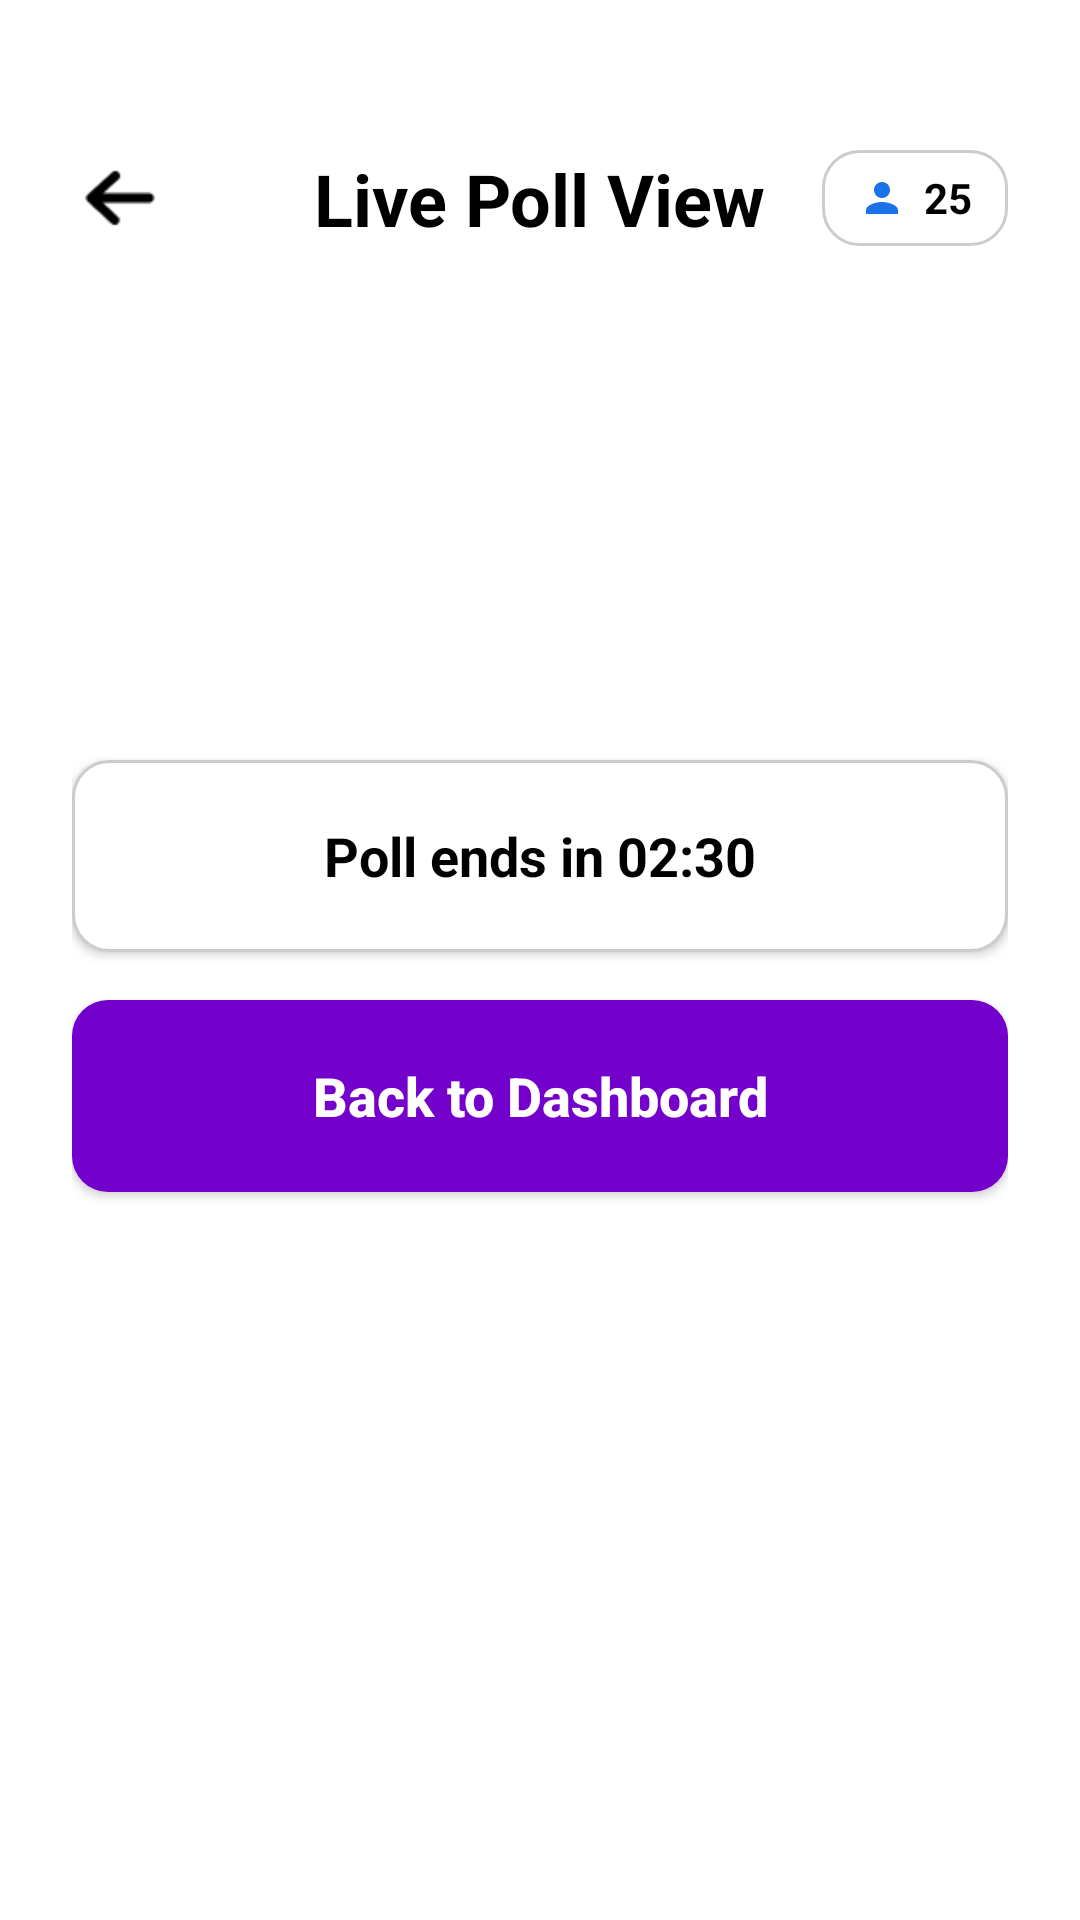

Screen size 1080x1920. Icon name, then its center in pixels as (x=x, y=y):
back arrow: (x=120, y=198)
participants: (x=882, y=198)
